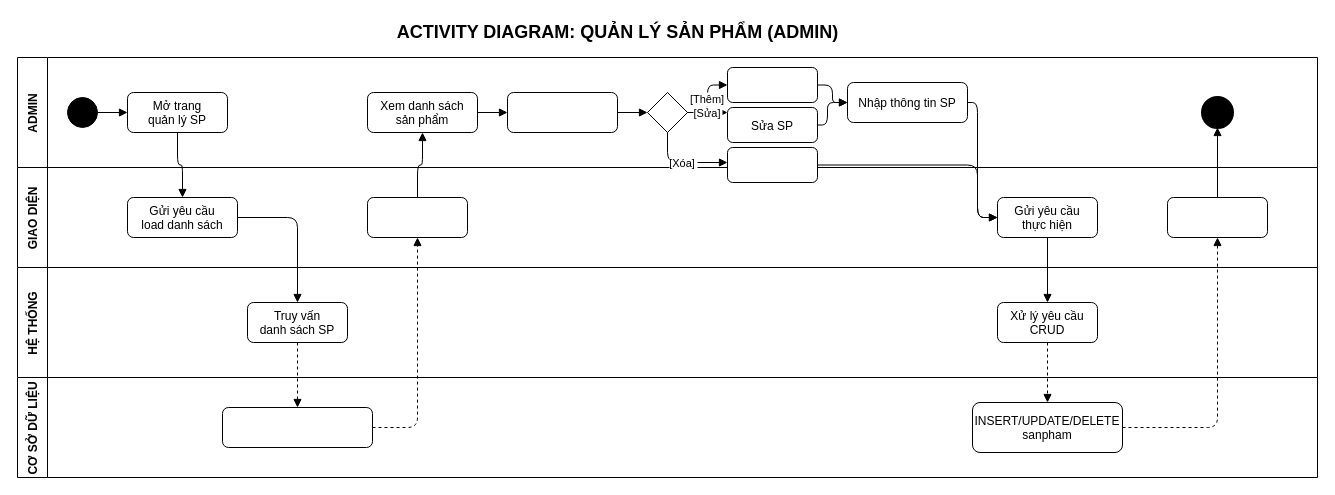
Some shapes in this 1335 by 495 pixel diagram are drawn without their labels. The centre of each missing label's shape, as x and y in pixels:
Chọn hành động: the point at 562,112
Hiển thị danh sách SP: the point at 417,217
Hiển thị kết quả: the point at 1217,217
SELECT * FROM sanpham: the point at 297,427
Thêm SP mới: the point at 772,84
Xóa SP: the point at 772,164
